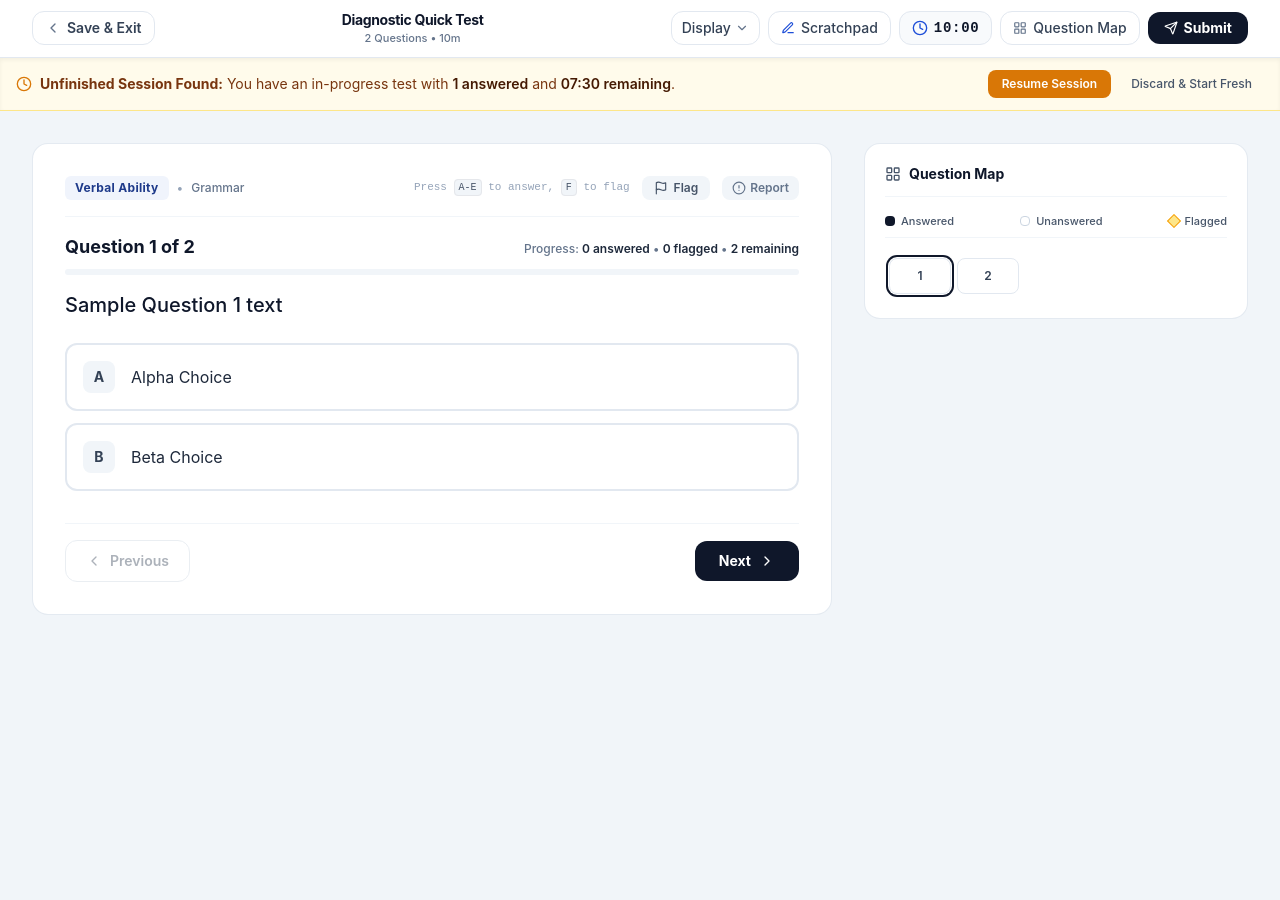
Scenario: ExamRunner Component › detects existing active draft, shows resume banner, and resumes session on click
Check: the text "Unfinished Session Found:" is shown, box [40,74,223,92]
Check: the text "1 answered" is shown, box [452,74,528,92]
Click the button "Resume Session" at (1049,84), box [988,70,1111,98]
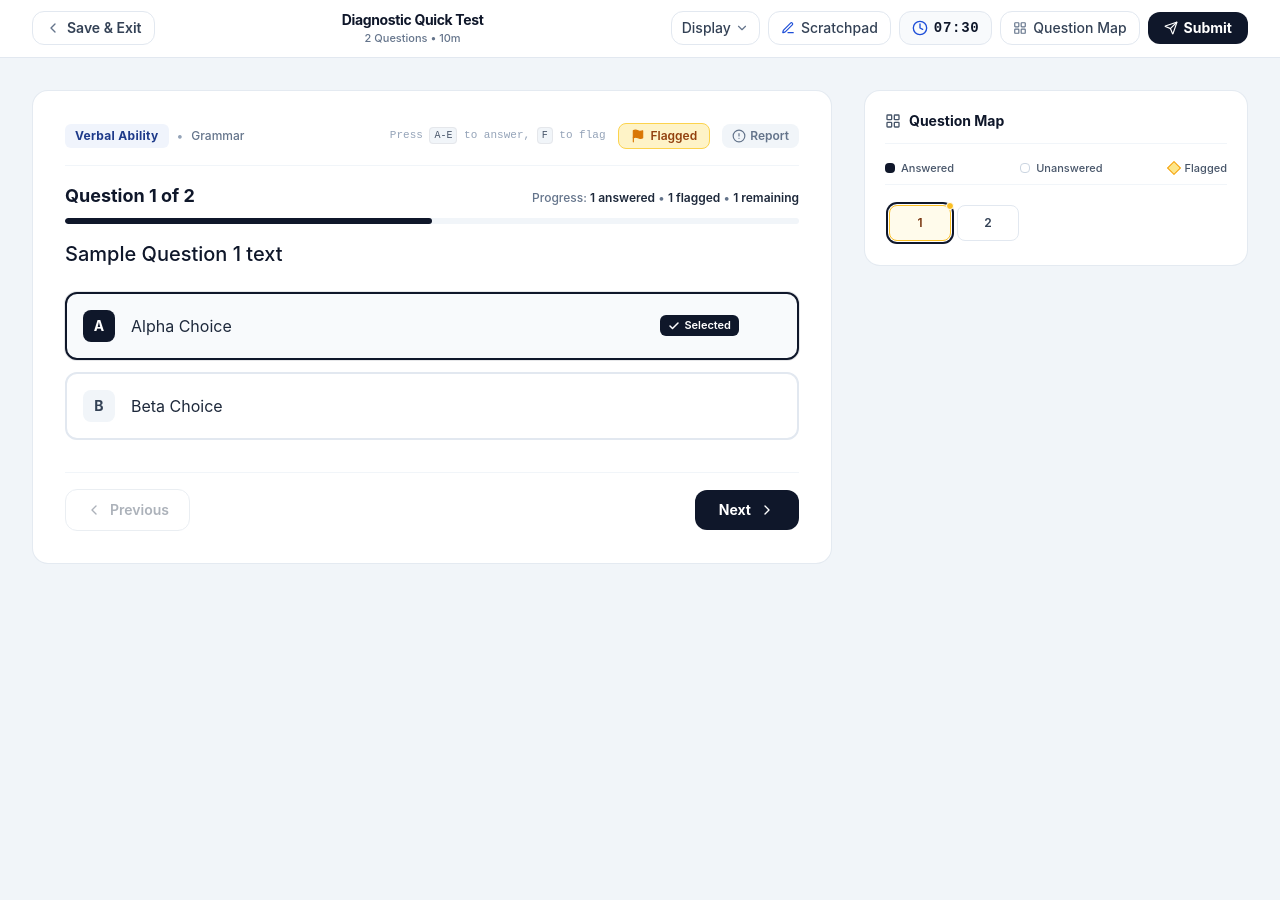
Check: the text "Unfinished Session Found" is gone
Check: the button "Flagged" is shown, box [618,122,710,148]
